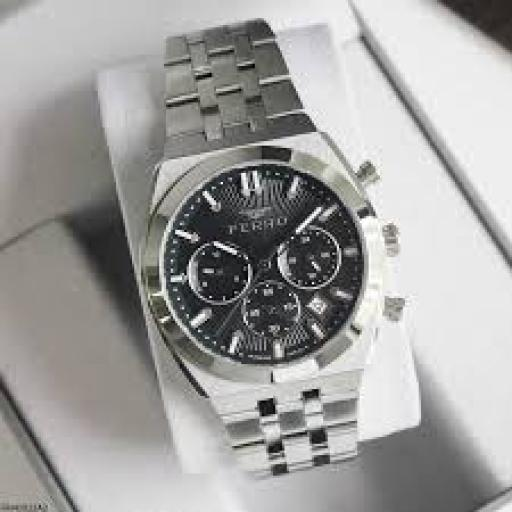KolSaati: (109, 14, 425, 504)
